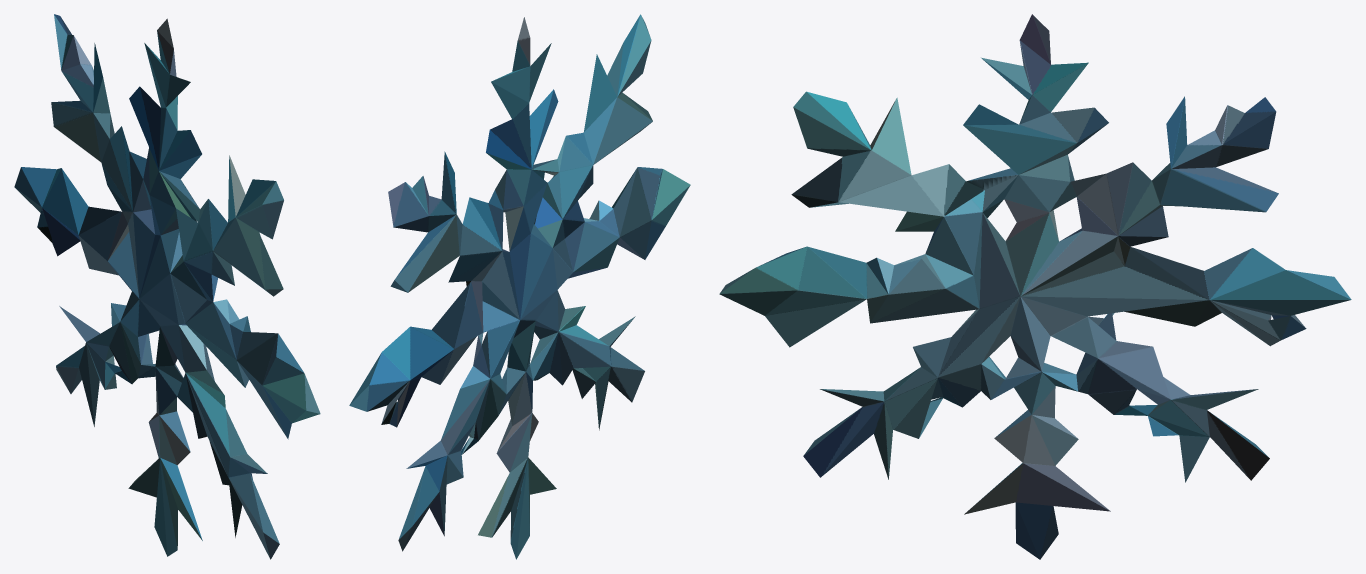
The model's file is snow.fbx.
3 views of the same model, side by side, from view 1: azimuth 30°, elevation 25°; view 2: azimuth 150°, elevation 25°; view 3: azimuth 270°, elevation 25° (orthographic).
Parts seen in each view (by area): view 1: Mesh_0; view 2: Mesh_0; view 3: Mesh_0.
Boxes of the visible parts, box(x1,y1,x2,y2) form: Mesh_0: box(14, 14, 320, 559); Mesh_0: box(349, 14, 690, 559); Mesh_0: box(719, 14, 1351, 559).
Bounding box in the file's own units: 7.76 × 113 × 119.
1 material, 1 textured.
